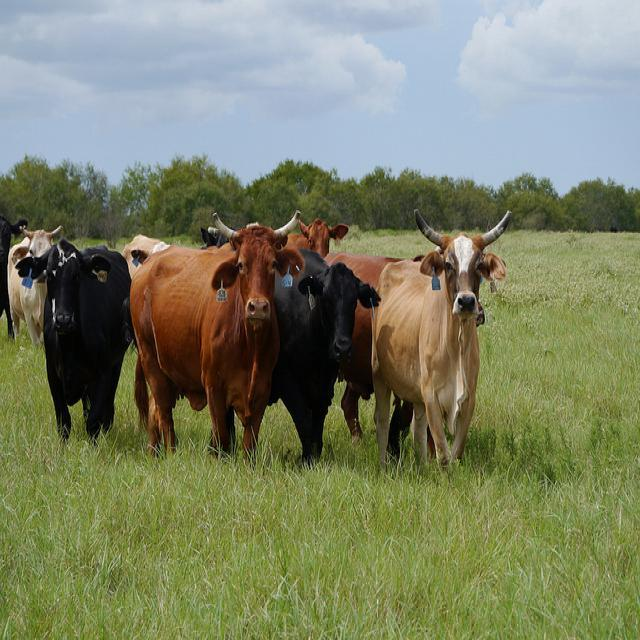cow: (129, 208, 305, 462), (369, 206, 509, 475), (320, 250, 484, 441), (12, 234, 132, 442), (270, 245, 381, 459), (6, 222, 61, 347), (0, 210, 26, 342), (121, 232, 171, 278), (298, 217, 347, 251), (200, 224, 226, 246)
